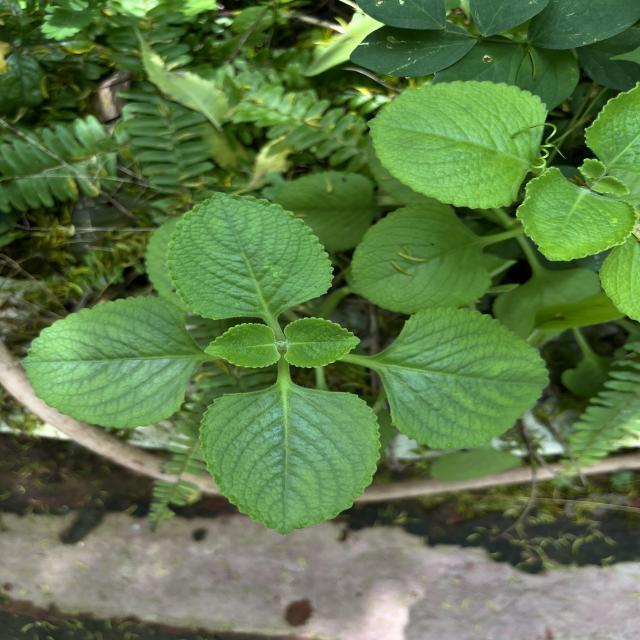Plectranthus barbatus: (199, 384, 383, 536), (376, 306, 552, 450), (365, 78, 550, 210), (20, 294, 195, 430), (164, 191, 334, 320), (348, 202, 492, 316), (515, 166, 638, 264), (283, 316, 362, 370), (202, 321, 282, 368)
